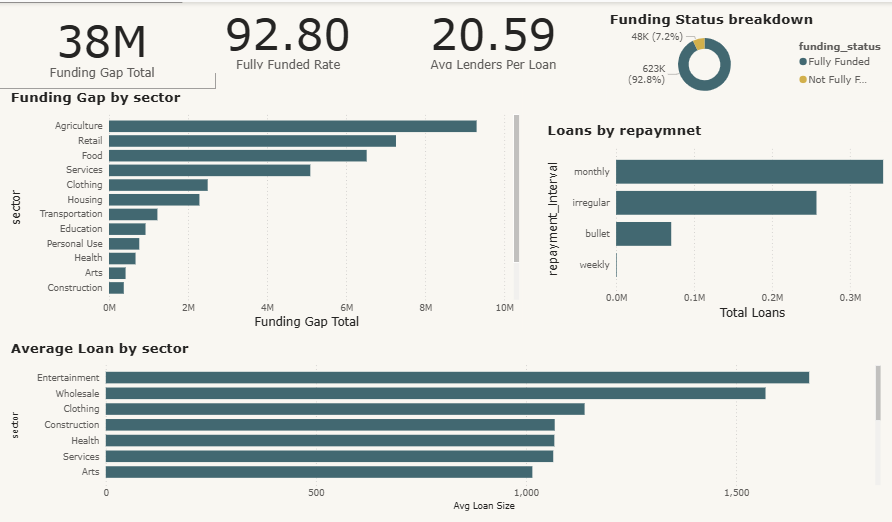

Layout of this report page (visuals, bound fields, positions):
{"tool":"powerbi","page":{"name":"Funding Gap analysis","canvas":[1280,720],"ordinal":1},"visuals":[{"type":"card","fields":{"Values":["Measures (2).Funding Gap Total"]},"box":[0,0,315,120],"z":0},{"type":"card","fields":{"Values":["Measures (2).Fully Funded Rate"]},"box":[268.3,0,291.7,98.3],"z":1000},{"type":"card","fields":{"Values":["Measures (2).Avg Lenders Per Loan"]},"box":[560,0,278.3,98.3],"z":2000},{"type":"donutChart","title":"Funding Status breakdown","fields":{"Category":["kiva_loans_clean.funding_status"],"Y":["Measures (2).Total Loans"]},"box":[854.9,12.5,384.5,125],"z":2001},{"type":"clusteredBarChart","title":"Funding Gap  by sector","fields":{"Category":["kiva_loans_clean.sector"],"Y":["Measures (2).Funding Gap Total"]},"box":[26.7,120,713.3,336.7],"z":2002},{"type":"clusteredBarChart","title":"Loans by repaymnet","fields":{"Category":["kiva_loans_clean.repayment_interval"],"Y":["Measures (2).Total Loans"]},"box":[768.3,165,496.7,278.3],"z":2003},{"type":"clusteredBarChart","title":"Average Loan by sector","fields":{"Category":["kiva_loans_clean.sector"],"Y":["Measures (2).Avg Loan Size"]},"box":[26.7,466.7,1213.3,241.7],"z":2004}]}

Visuals, with their boxes on the page's 1280x720 design canvas (x1, y1, x2, y2). These are canvas units, not pixel positions in the 892x522 screenshot, which may show the page scaled, cropped or inside an application window:
card - Measures (2).Funding Gap Total: box(0, 0, 315, 120)
card - Measures (2).Fully Funded Rate: box(268, 0, 560, 98)
card - Measures (2).Avg Lenders Per Loan: box(560, 0, 838, 98)
"Funding Status breakdown" donutChart: box(855, 12, 1239, 138)
"Funding Gap  by sector" clusteredBarChart: box(27, 120, 740, 457)
"Loans by repaymnet" clusteredBarChart: box(768, 165, 1265, 443)
"Average Loan by sector" clusteredBarChart: box(27, 467, 1240, 708)
